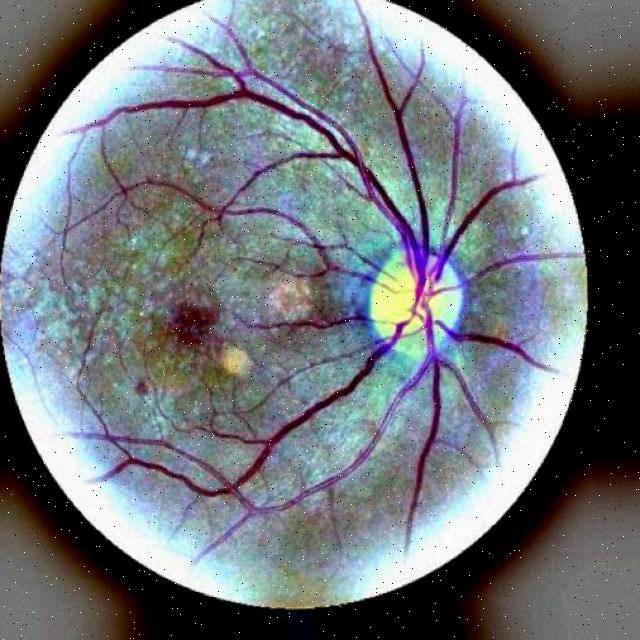Nerves: (238, 71, 459, 484), (407, 359, 440, 545), (458, 334, 545, 367), (428, 314, 434, 353)
Optic Disk: (373, 250, 468, 360)
